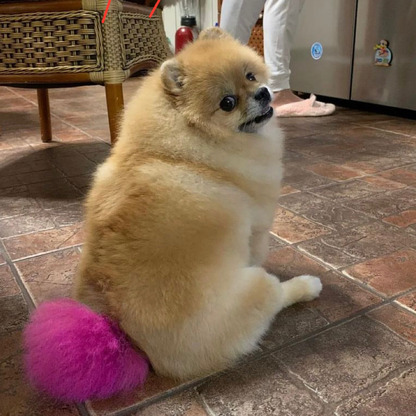Pomeranian: (104, 17, 304, 370)
